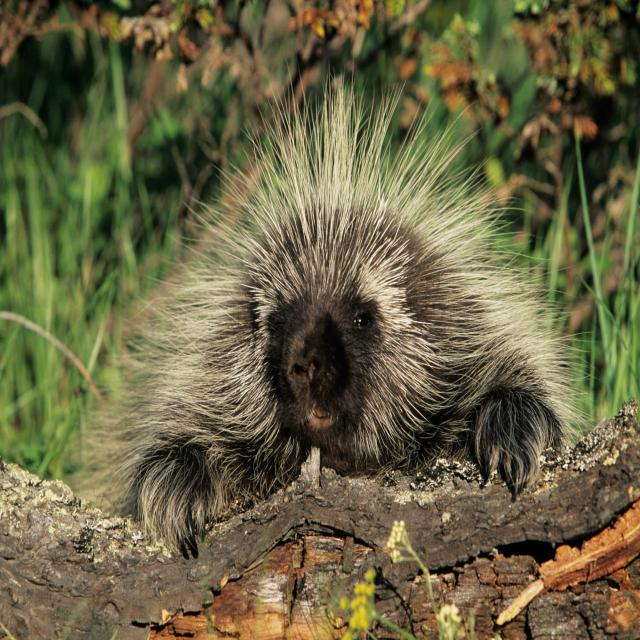porcupine: (122, 85, 576, 544)
